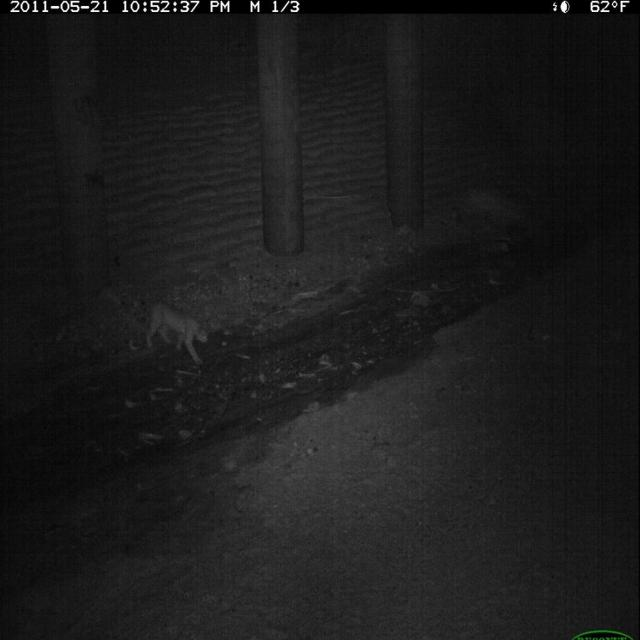bobcat: (145, 296, 211, 371)
